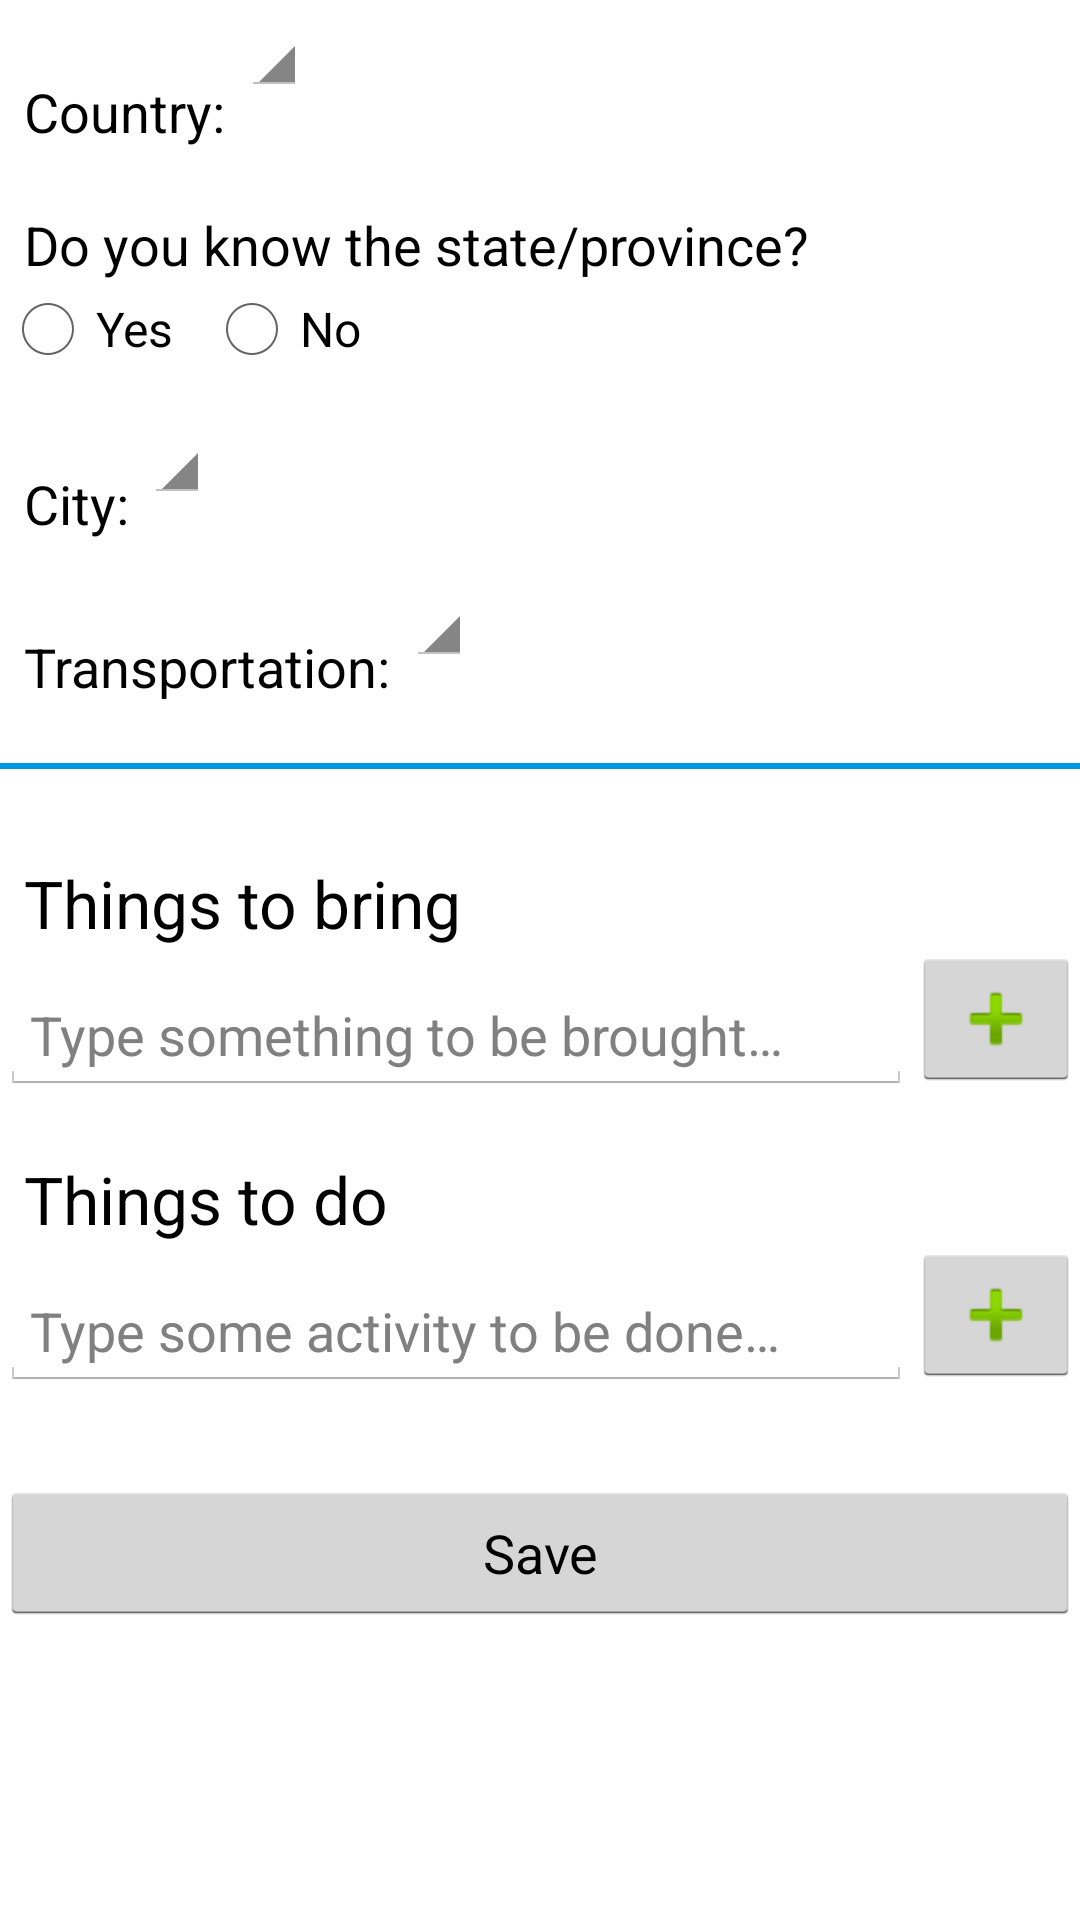

Icon bounding boxes for this 1080 x 1920 phone screenshot, format (x1, y1, x2, y2):
Add thing to bring: (924, 960, 1068, 1080)
Add thing to do: (924, 1256, 1068, 1376)
